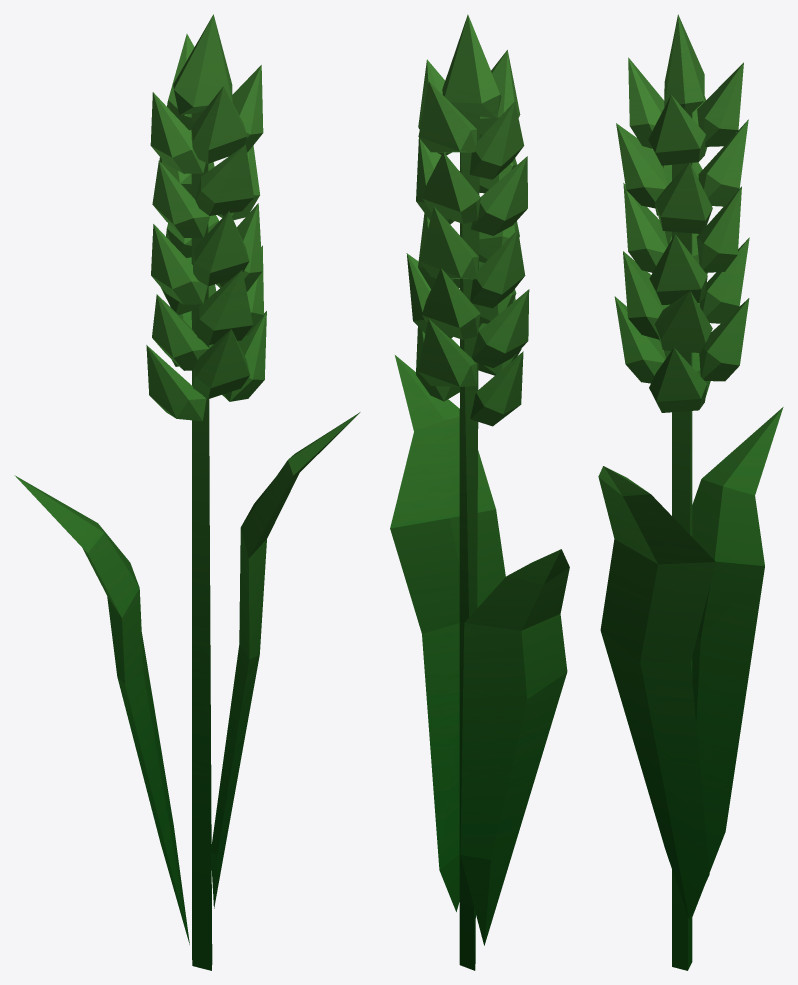
The model's file is Flower_Wheat_01.fbx.
The picture shows the model from 3 angles, left to right: view 1: azimuth 30°, elevation 25°; view 2: azimuth 150°, elevation 25°; view 3: azimuth 270°, elevation 25°; orthographic projection.
Visible parts, largest first — view 1: Flower_Wheat_01; view 2: Flower_Wheat_01; view 3: Flower_Wheat_01.
Part boxes in pixels (x1,y1,x2,y2): Flower_Wheat_01: (14,14,360,970); Flower_Wheat_01: (390,14,569,970); Flower_Wheat_01: (598,14,783,970).
Bounding box in the file's own units: 21.65 × 76.48 × 13.44.
